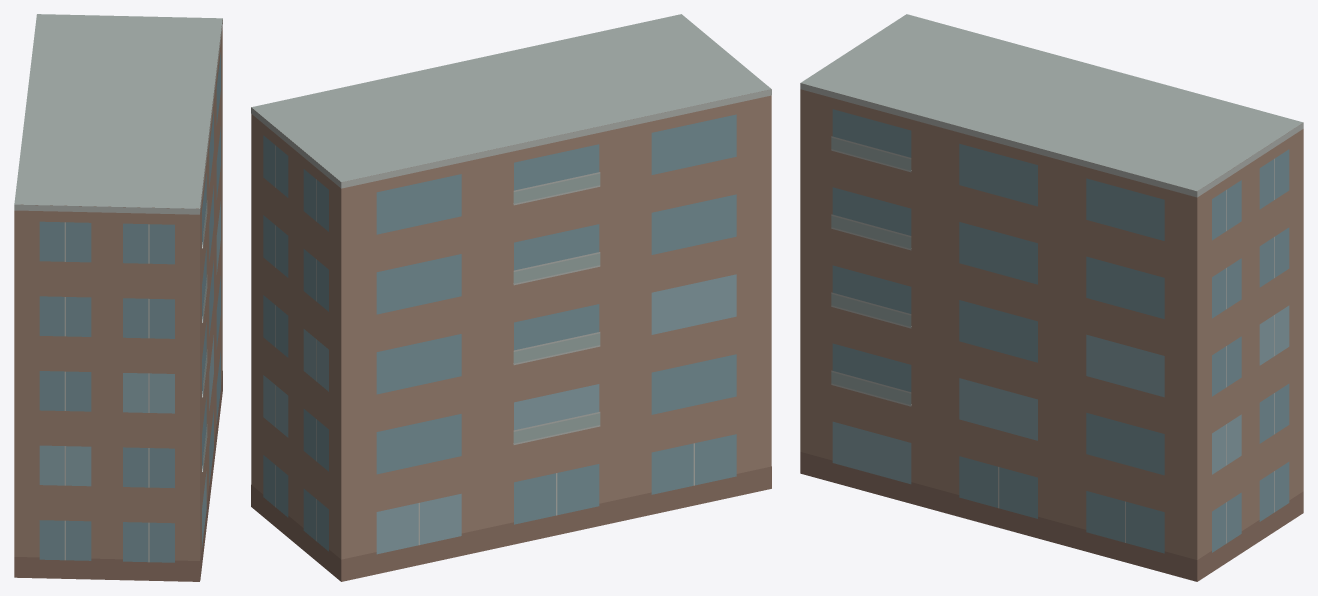
Rendered from survey-upis-32788649.glb.
3 views of the same model, side by side, from view 1: azimuth 30°, elevation 25°; view 2: azimuth 150°, elevation 25°; view 3: azimuth 270°, elevation 25° (orthographic). The views are drawn at different scales.
Parts seen in each view (by area): view 1: survey-upis-32788649.tmp; view 2: survey-upis-32788649.tmp; view 3: survey-upis-32788649.tmp.
Part boxes in pixels (x1,y1,x2,y2): survey-upis-32788649.tmp: [14, 14, 222, 581]; survey-upis-32788649.tmp: [251, 14, 771, 581]; survey-upis-32788649.tmp: [800, 14, 1303, 581].
Size of the model in its own units: 15.01 by 15.4 by 18.
